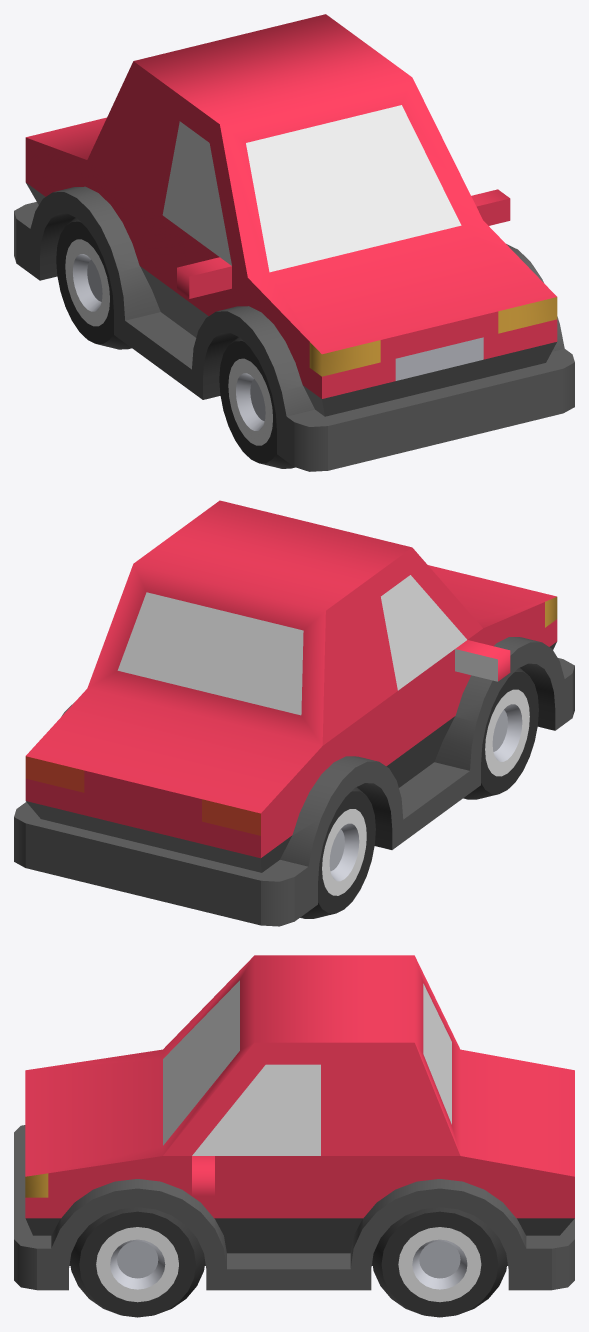
Rendered from sedan.glb.
3 renders of one model, top to bottom at view 1: azimuth 30°, elevation 25°; view 2: azimuth 150°, elevation 25°; view 3: azimuth 270°, elevation 25°, orthographic. The views are drawn at different scales.
Visible parts, largest first — view 1: body, wheel_backLeft, wheel_frontLeft; view 2: body, wheel_frontLeft, wheel_backLeft; view 3: body, wheel_backRight, wheel_frontRight.
Part boxes in pixels (left/top/right/bottom): body: left=14, top=14, right=574, bottom=471; wheel_backLeft: left=56, top=217, right=131, bottom=349; wheel_frontLeft: left=219, top=337, right=295, bottom=468; body: left=14, top=500, right=574, bottom=926; wheel_frontLeft: left=463, top=667, right=538, bottom=799; wheel_backLeft: left=300, top=787, right=375, bottom=918; body: left=14, top=955, right=574, bottom=1290; wheel_backRight: left=372, top=1207, right=507, bottom=1317; wheel_frontRight: left=70, top=1207, right=205, bottom=1317.
Bounding box in the file's own units: 4.5 × 3.9 × 7.35.
